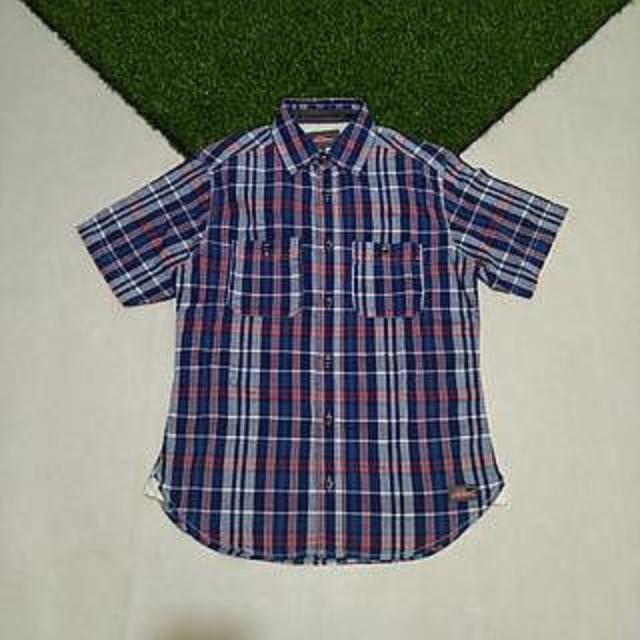SHIRT: (53, 80, 588, 574)
